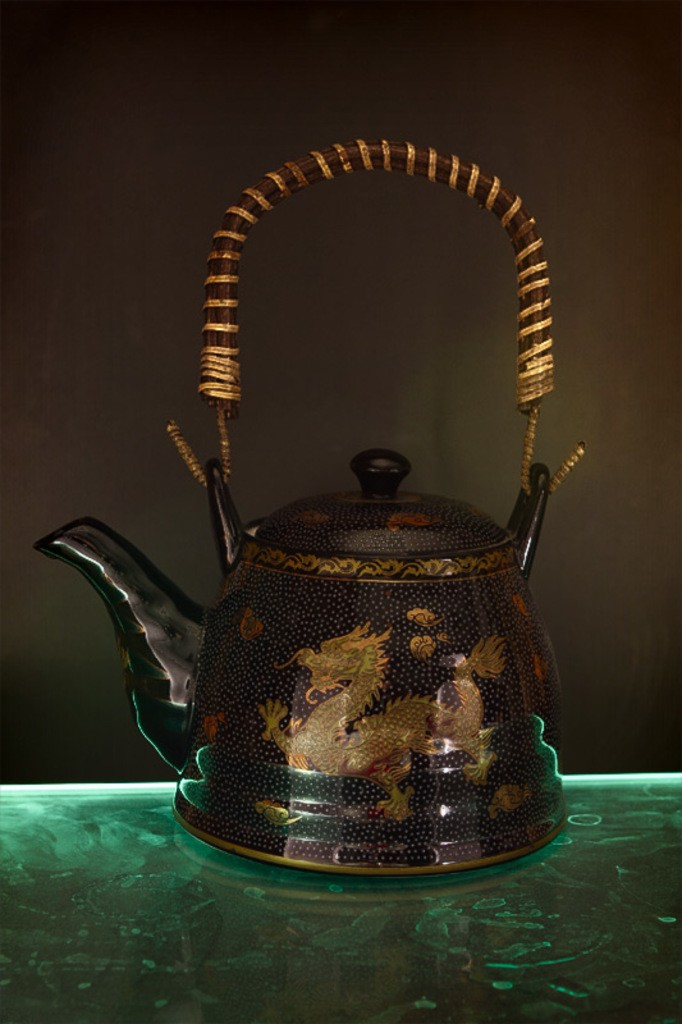teapot: (33, 137, 590, 876)
